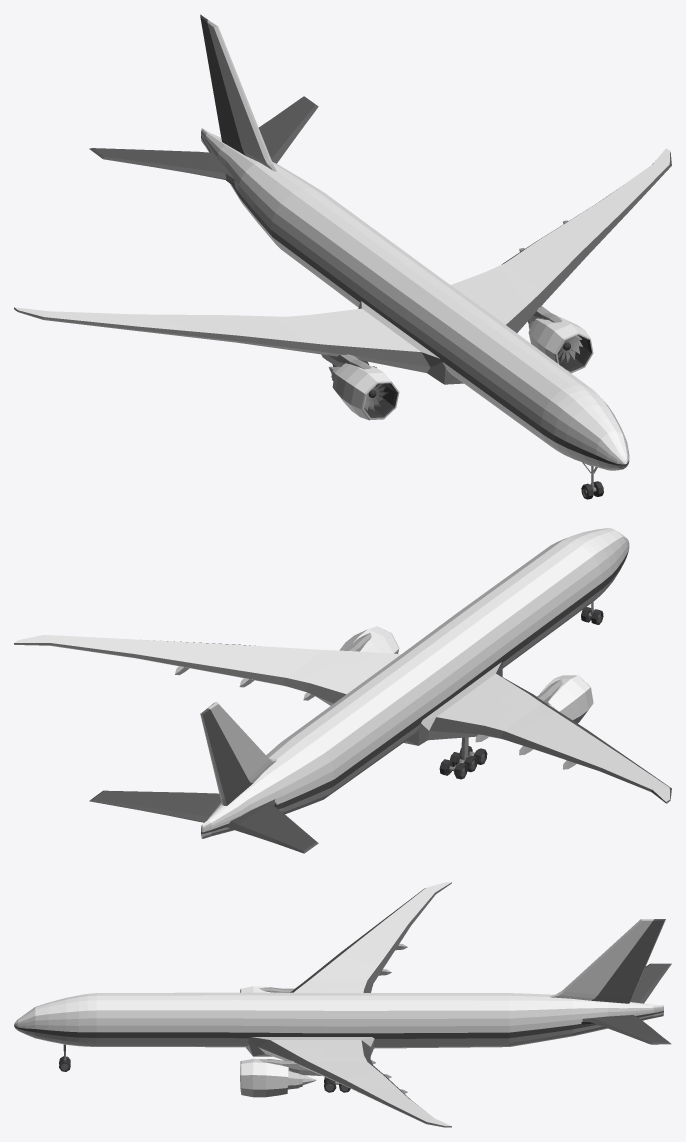
Rendered from SM_Vehicle_Airplane.fbx.
3 renders of one model, top to bottom at view 1: azimuth 30°, elevation 25°; view 2: azimuth 150°, elevation 25°; view 3: azimuth 270°, elevation 25°, orthographic. The views are drawn at different scales.
Visible parts, largest first — view 1: Airplane_Main; view 2: Airplane_Main, Airplane_Wheels; view 3: Airplane_Main, Airplane_Wheels.
Boxes of the visible parts, box(x1,y1,x2,y2) form: Airplane_Main: box(14, 14, 671, 470); Airplane_Main: box(14, 528, 671, 853); Airplane_Wheels: box(439, 602, 603, 779); Airplane_Main: box(14, 882, 671, 1127); Airplane_Wheels: box(59, 1044, 358, 1092).
Bounding box in the file's own units: 8993 × 2582 × 10241.
